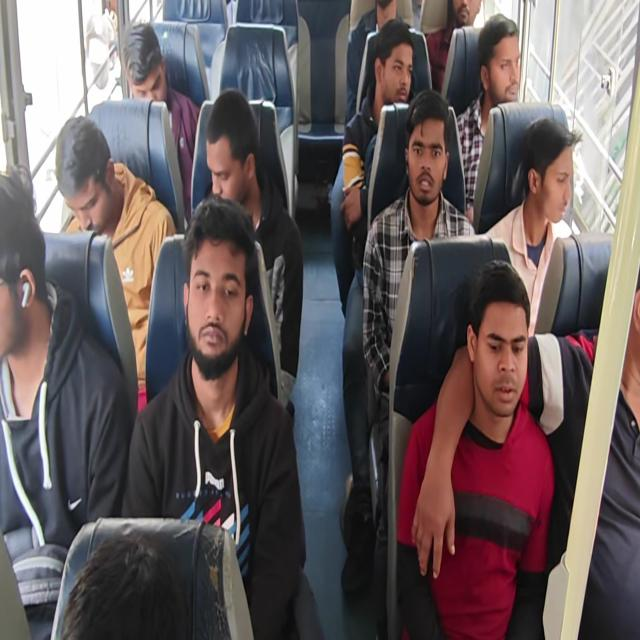person: (1, 1, 637, 638), (121, 195, 318, 638), (0, 163, 133, 638), (361, 89, 476, 633), (396, 259, 555, 638), (55, 115, 176, 412), (203, 88, 304, 420), (560, 284, 640, 638), (330, 18, 414, 314), (483, 116, 583, 337), (120, 21, 201, 223), (455, 14, 521, 222), (59, 533, 188, 639), (345, 0, 413, 122), (426, 0, 482, 94)
